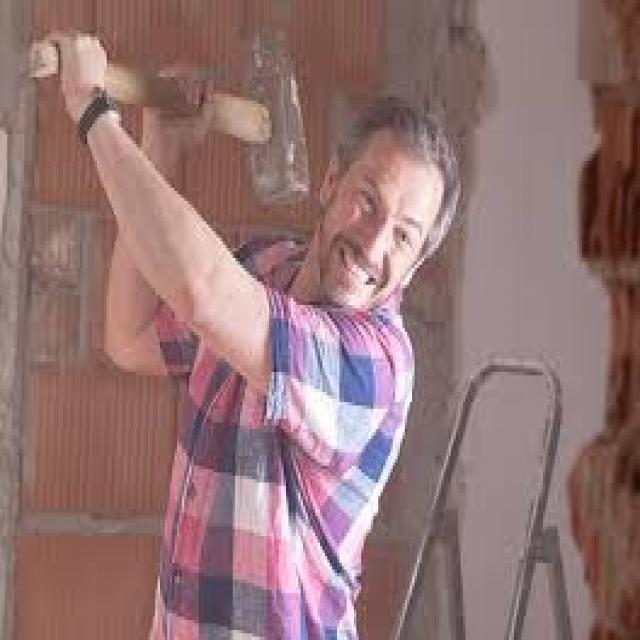hammer: (24, 18, 313, 210)
